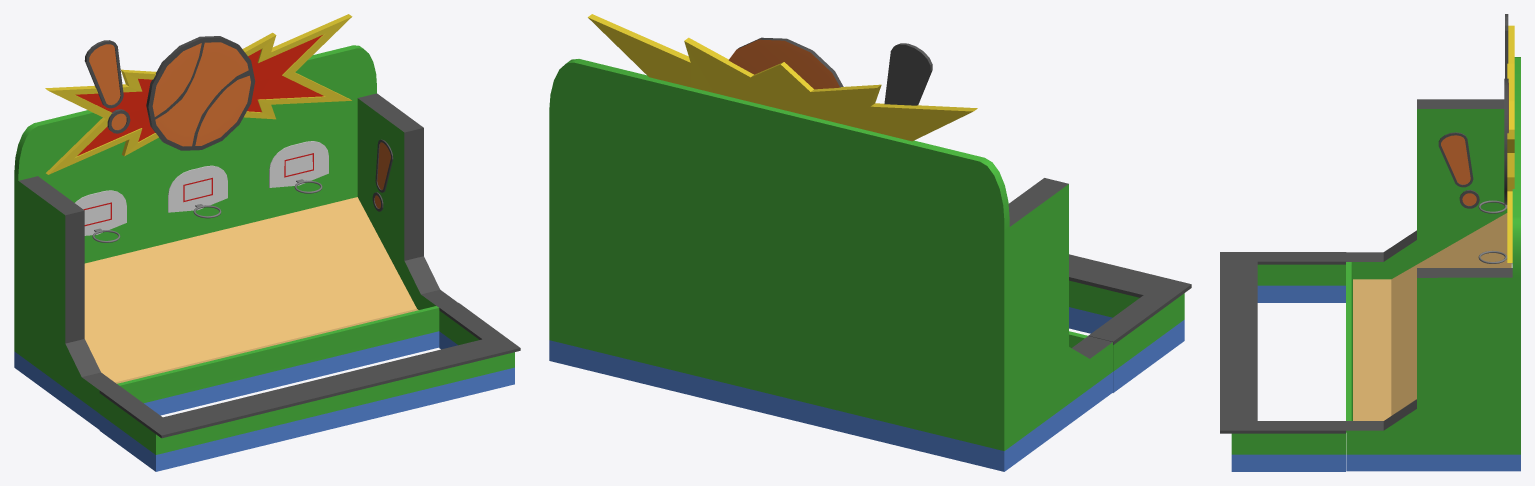
File: hoopGame.fbx
3 renders of one model, left to right at view 1: azimuth 30°, elevation 25°; view 2: azimuth 150°, elevation 25°; view 3: azimuth 270°, elevation 25°, orthographic. The views are drawn at different scales.
Visible parts, largest first — view 1: Hoop Game; view 2: Hoop Game; view 3: Hoop Game.
Boxes of the visible parts, x1=… form: Hoop Game: x1=14, y1=14, x2=520, y2=471; Hoop Game: x1=549, y1=14, x2=1191, y2=471; Hoop Game: x1=1220, y1=14, x2=1520, y2=471.
Bounding box in the file's own units: 730 × 519 × 606.
